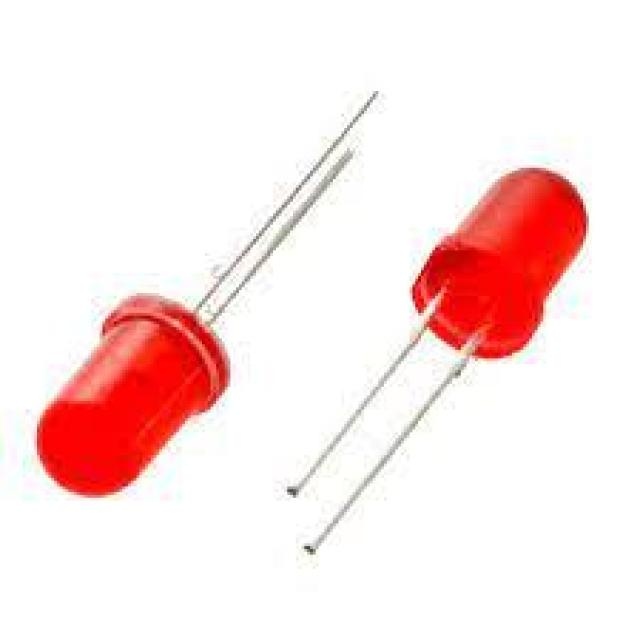Led: (38, 96, 373, 494), (288, 174, 588, 552)
